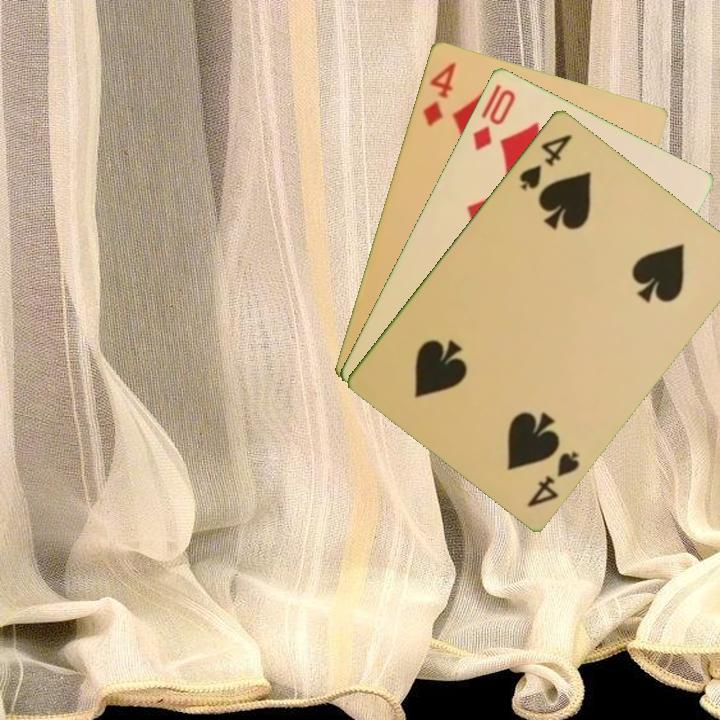10d: (469, 85, 519, 153)
4d: (418, 58, 459, 129)
4s: (515, 130, 575, 193), (523, 447, 583, 510)
